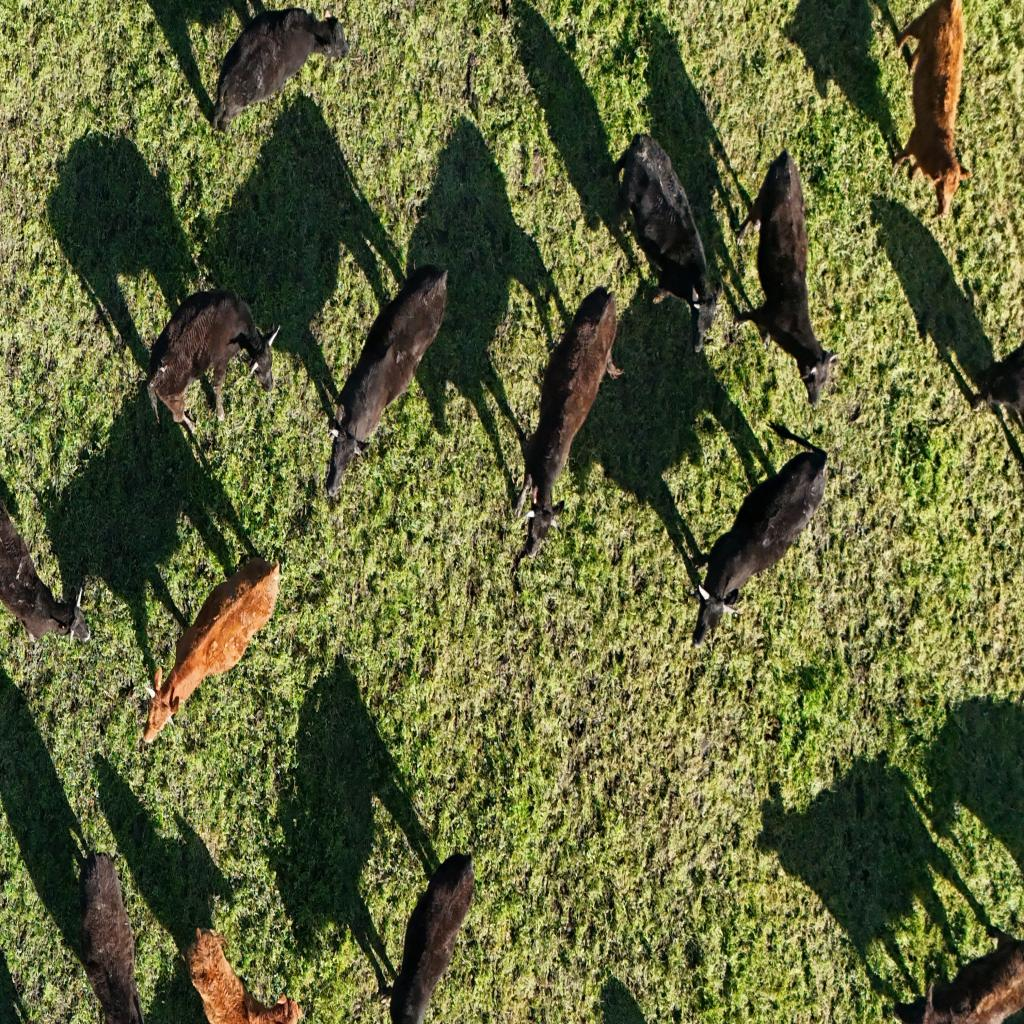cow: (508, 286, 622, 562), (320, 258, 448, 502), (694, 431, 826, 650), (141, 548, 284, 748), (737, 152, 843, 410), (208, 0, 355, 139), (142, 286, 274, 439), (885, 0, 974, 222), (622, 131, 708, 352), (388, 850, 476, 1022), (2, 480, 91, 644), (78, 851, 151, 1023), (894, 927, 1024, 1021), (182, 926, 302, 1024), (964, 328, 1022, 475)
